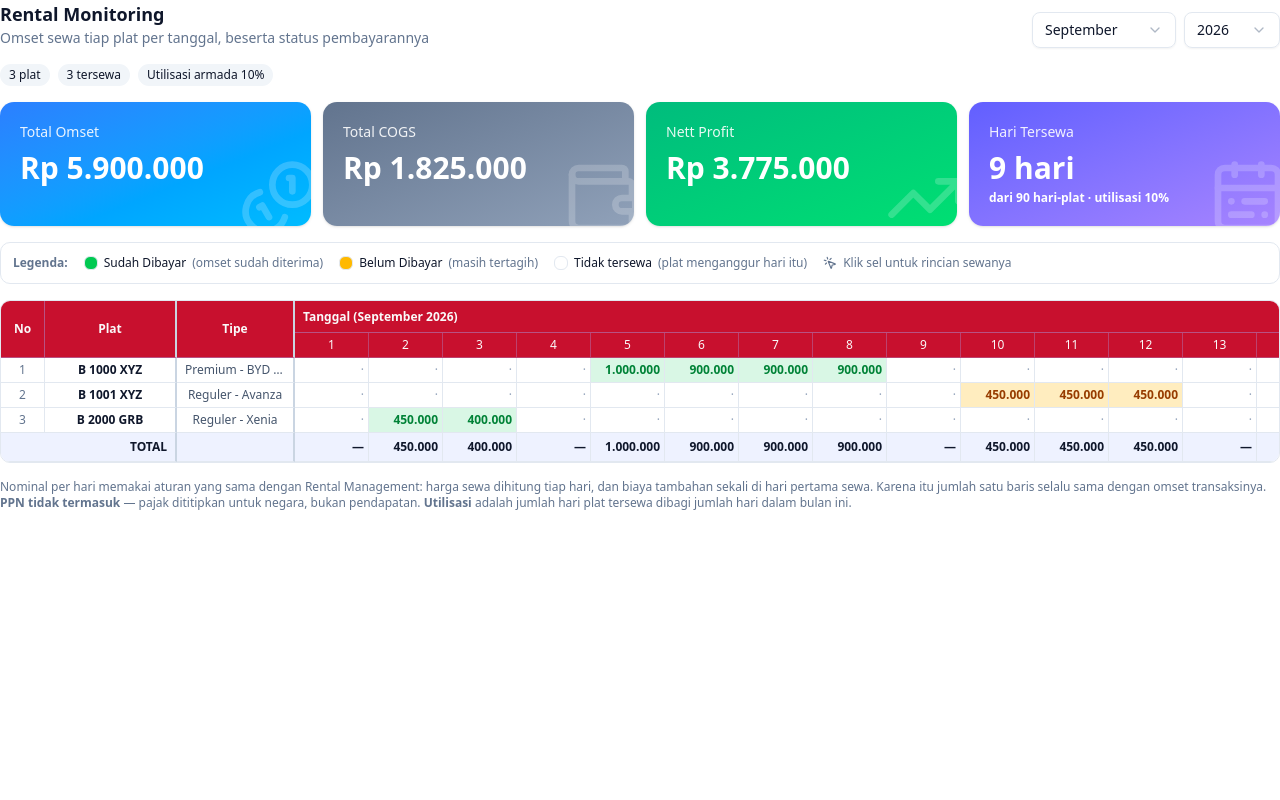
it: Rental Monitoring grid › opens the booking behind a cell, without a second request
This screenshot has width=1280, height=800.
Click the button "1.000.000" at (628, 370), box [591,358,665,383]
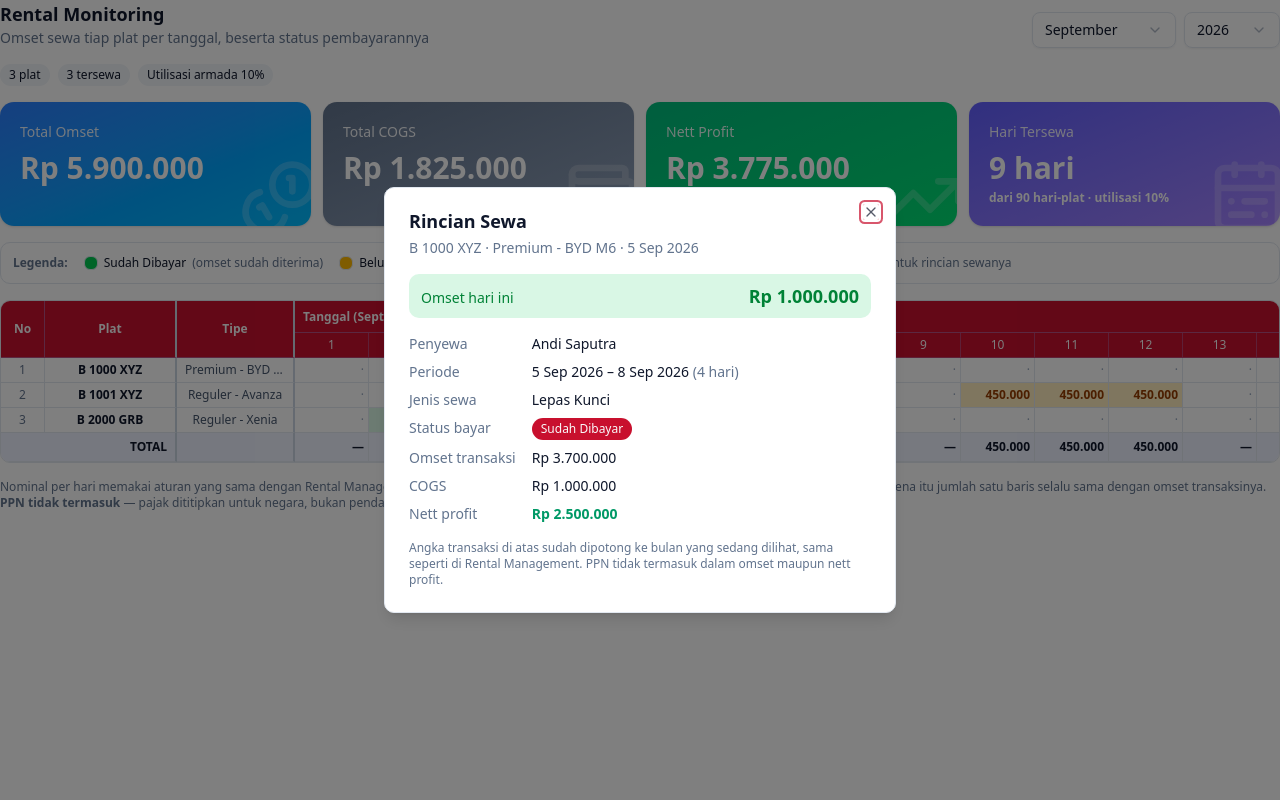
Expected: the heading "Rincian Sewa" is shown, [409,209,527,233]
Expected: the text "Omset hari ini" is shown, [421,288,514,308]
Expected: the text "Penyewa" is shown, [409,334,468,353]
